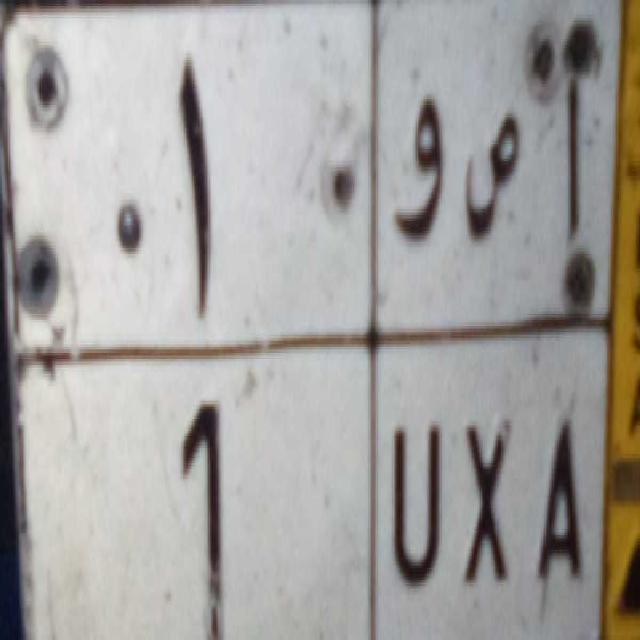license_plate: (14, 340, 606, 640)
